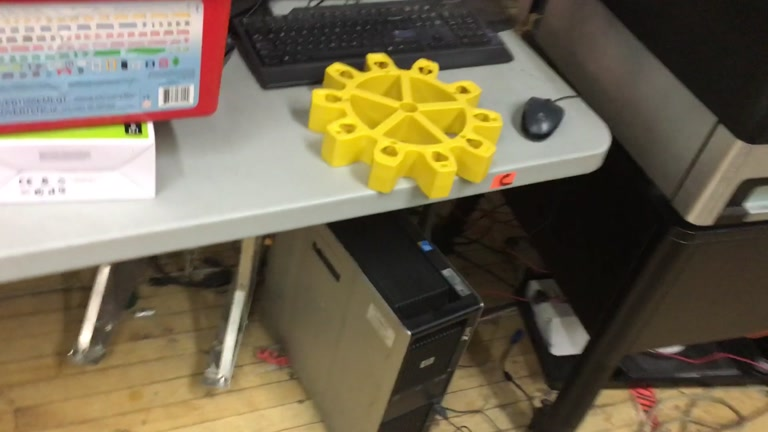gear: (308, 49, 504, 200)
